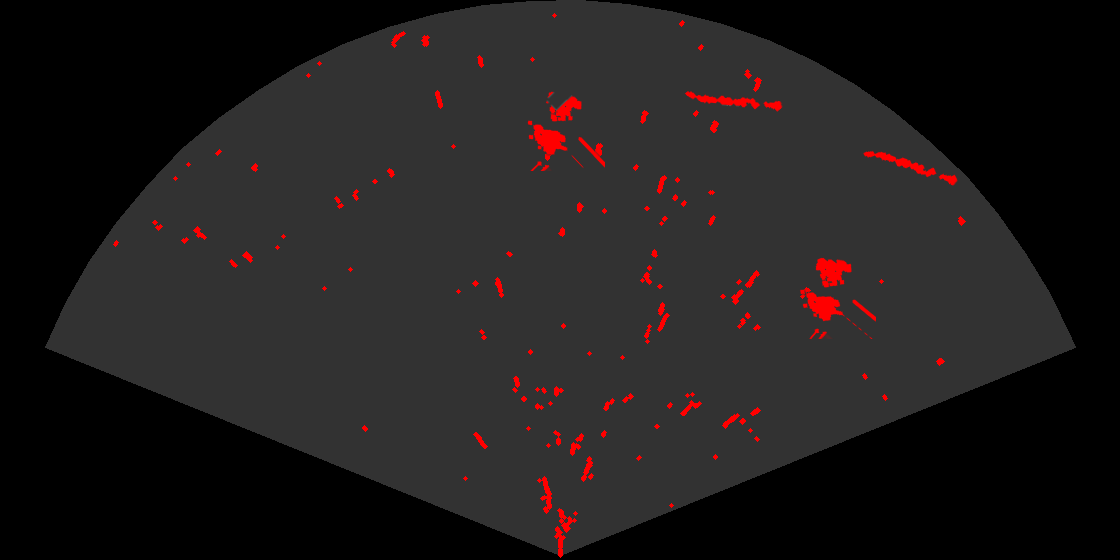cage: (798, 256, 876, 339), (526, 90, 605, 171)
chain: (862, 149, 959, 187), (683, 90, 783, 113)
